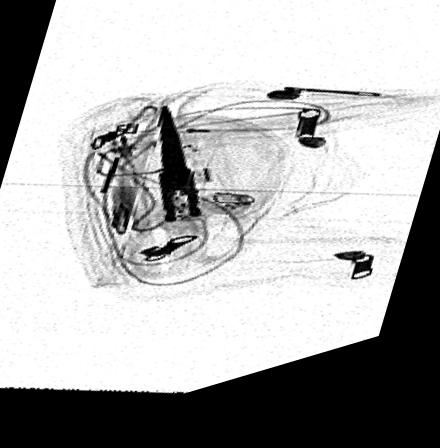Scissors: (121, 109, 263, 290)
